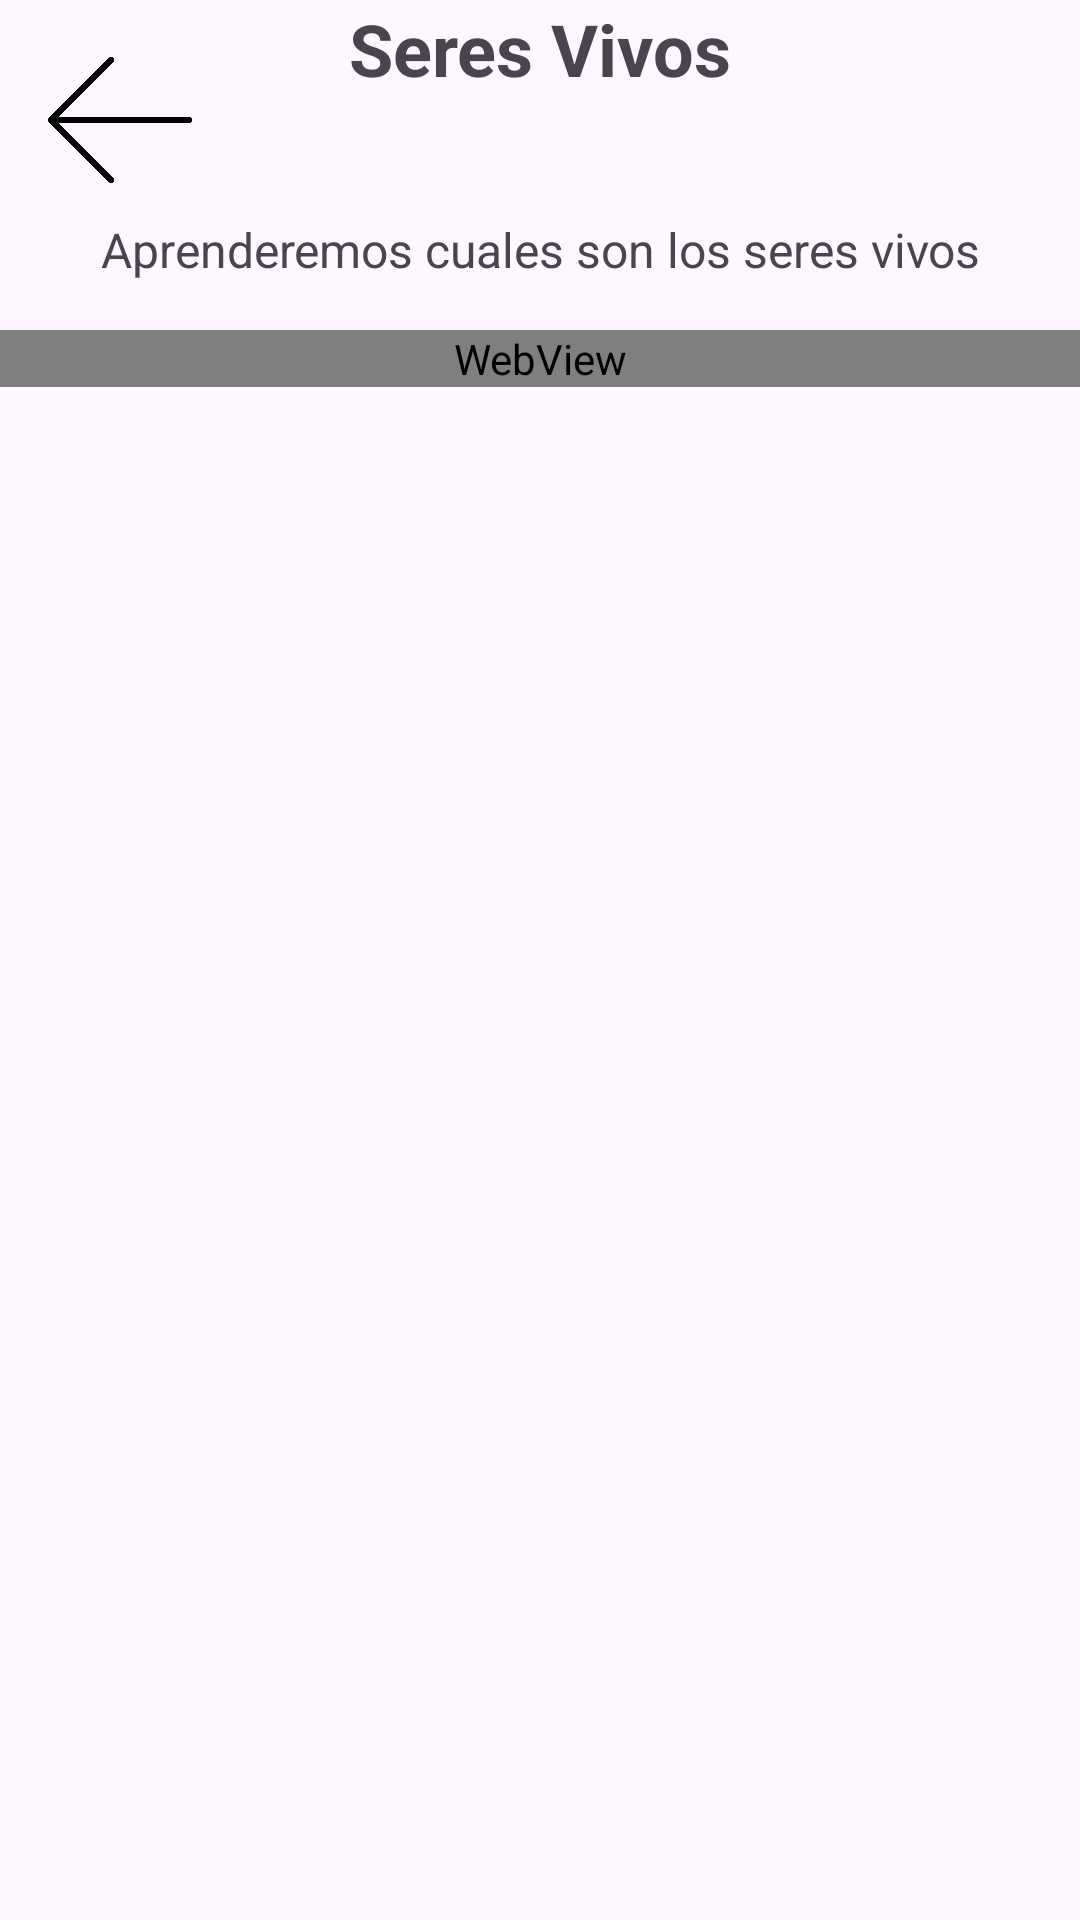

Icon click points for this 1080px×1920px phone screenshot, format [x,y]:
Botón de volver: [120,120]
